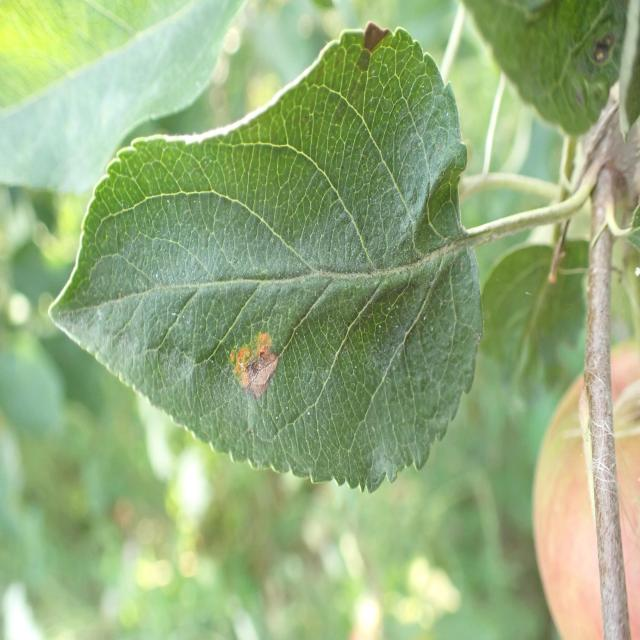rust: (48, 22, 484, 496)
